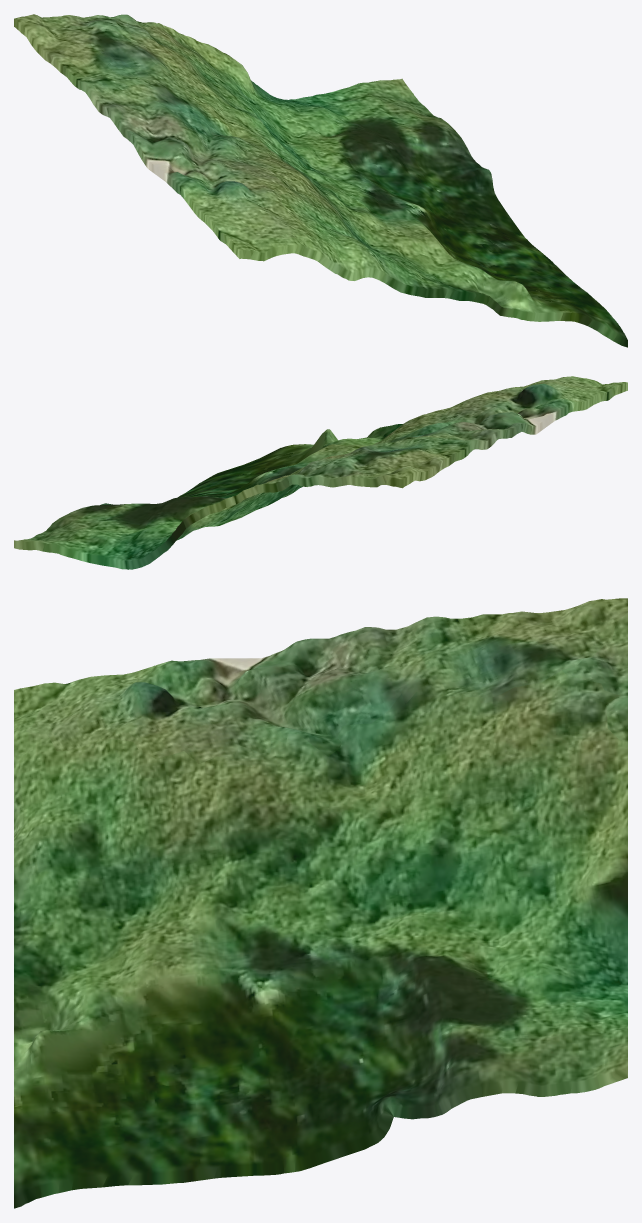
Rendered from z20-167560-405172-h0-yup-uvflip-v3-world.glb.
3 views of the same model, one above another, from view 1: azimuth 30°, elevation 25°; view 2: azimuth 150°, elevation 25°; view 3: azimuth 270°, elevation 25° (orthographic). The views are drawn at different scales.
Size of the model in its own units: 30.16 by 19.2 by 30.32.
Materials: 1 (1 with a texture image).
